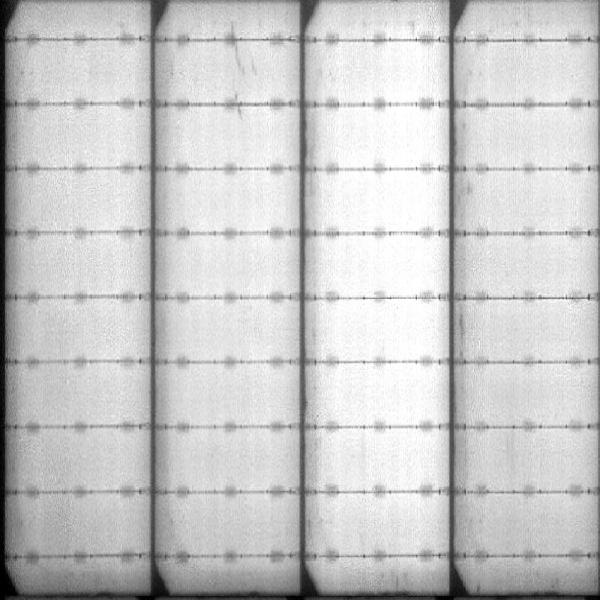scratch: (226, 19, 249, 82), (227, 82, 247, 127)
